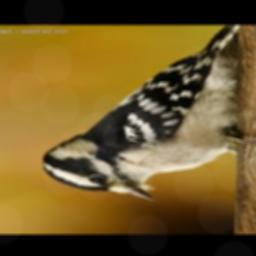Woodpecker: (40, 25, 255, 201)
